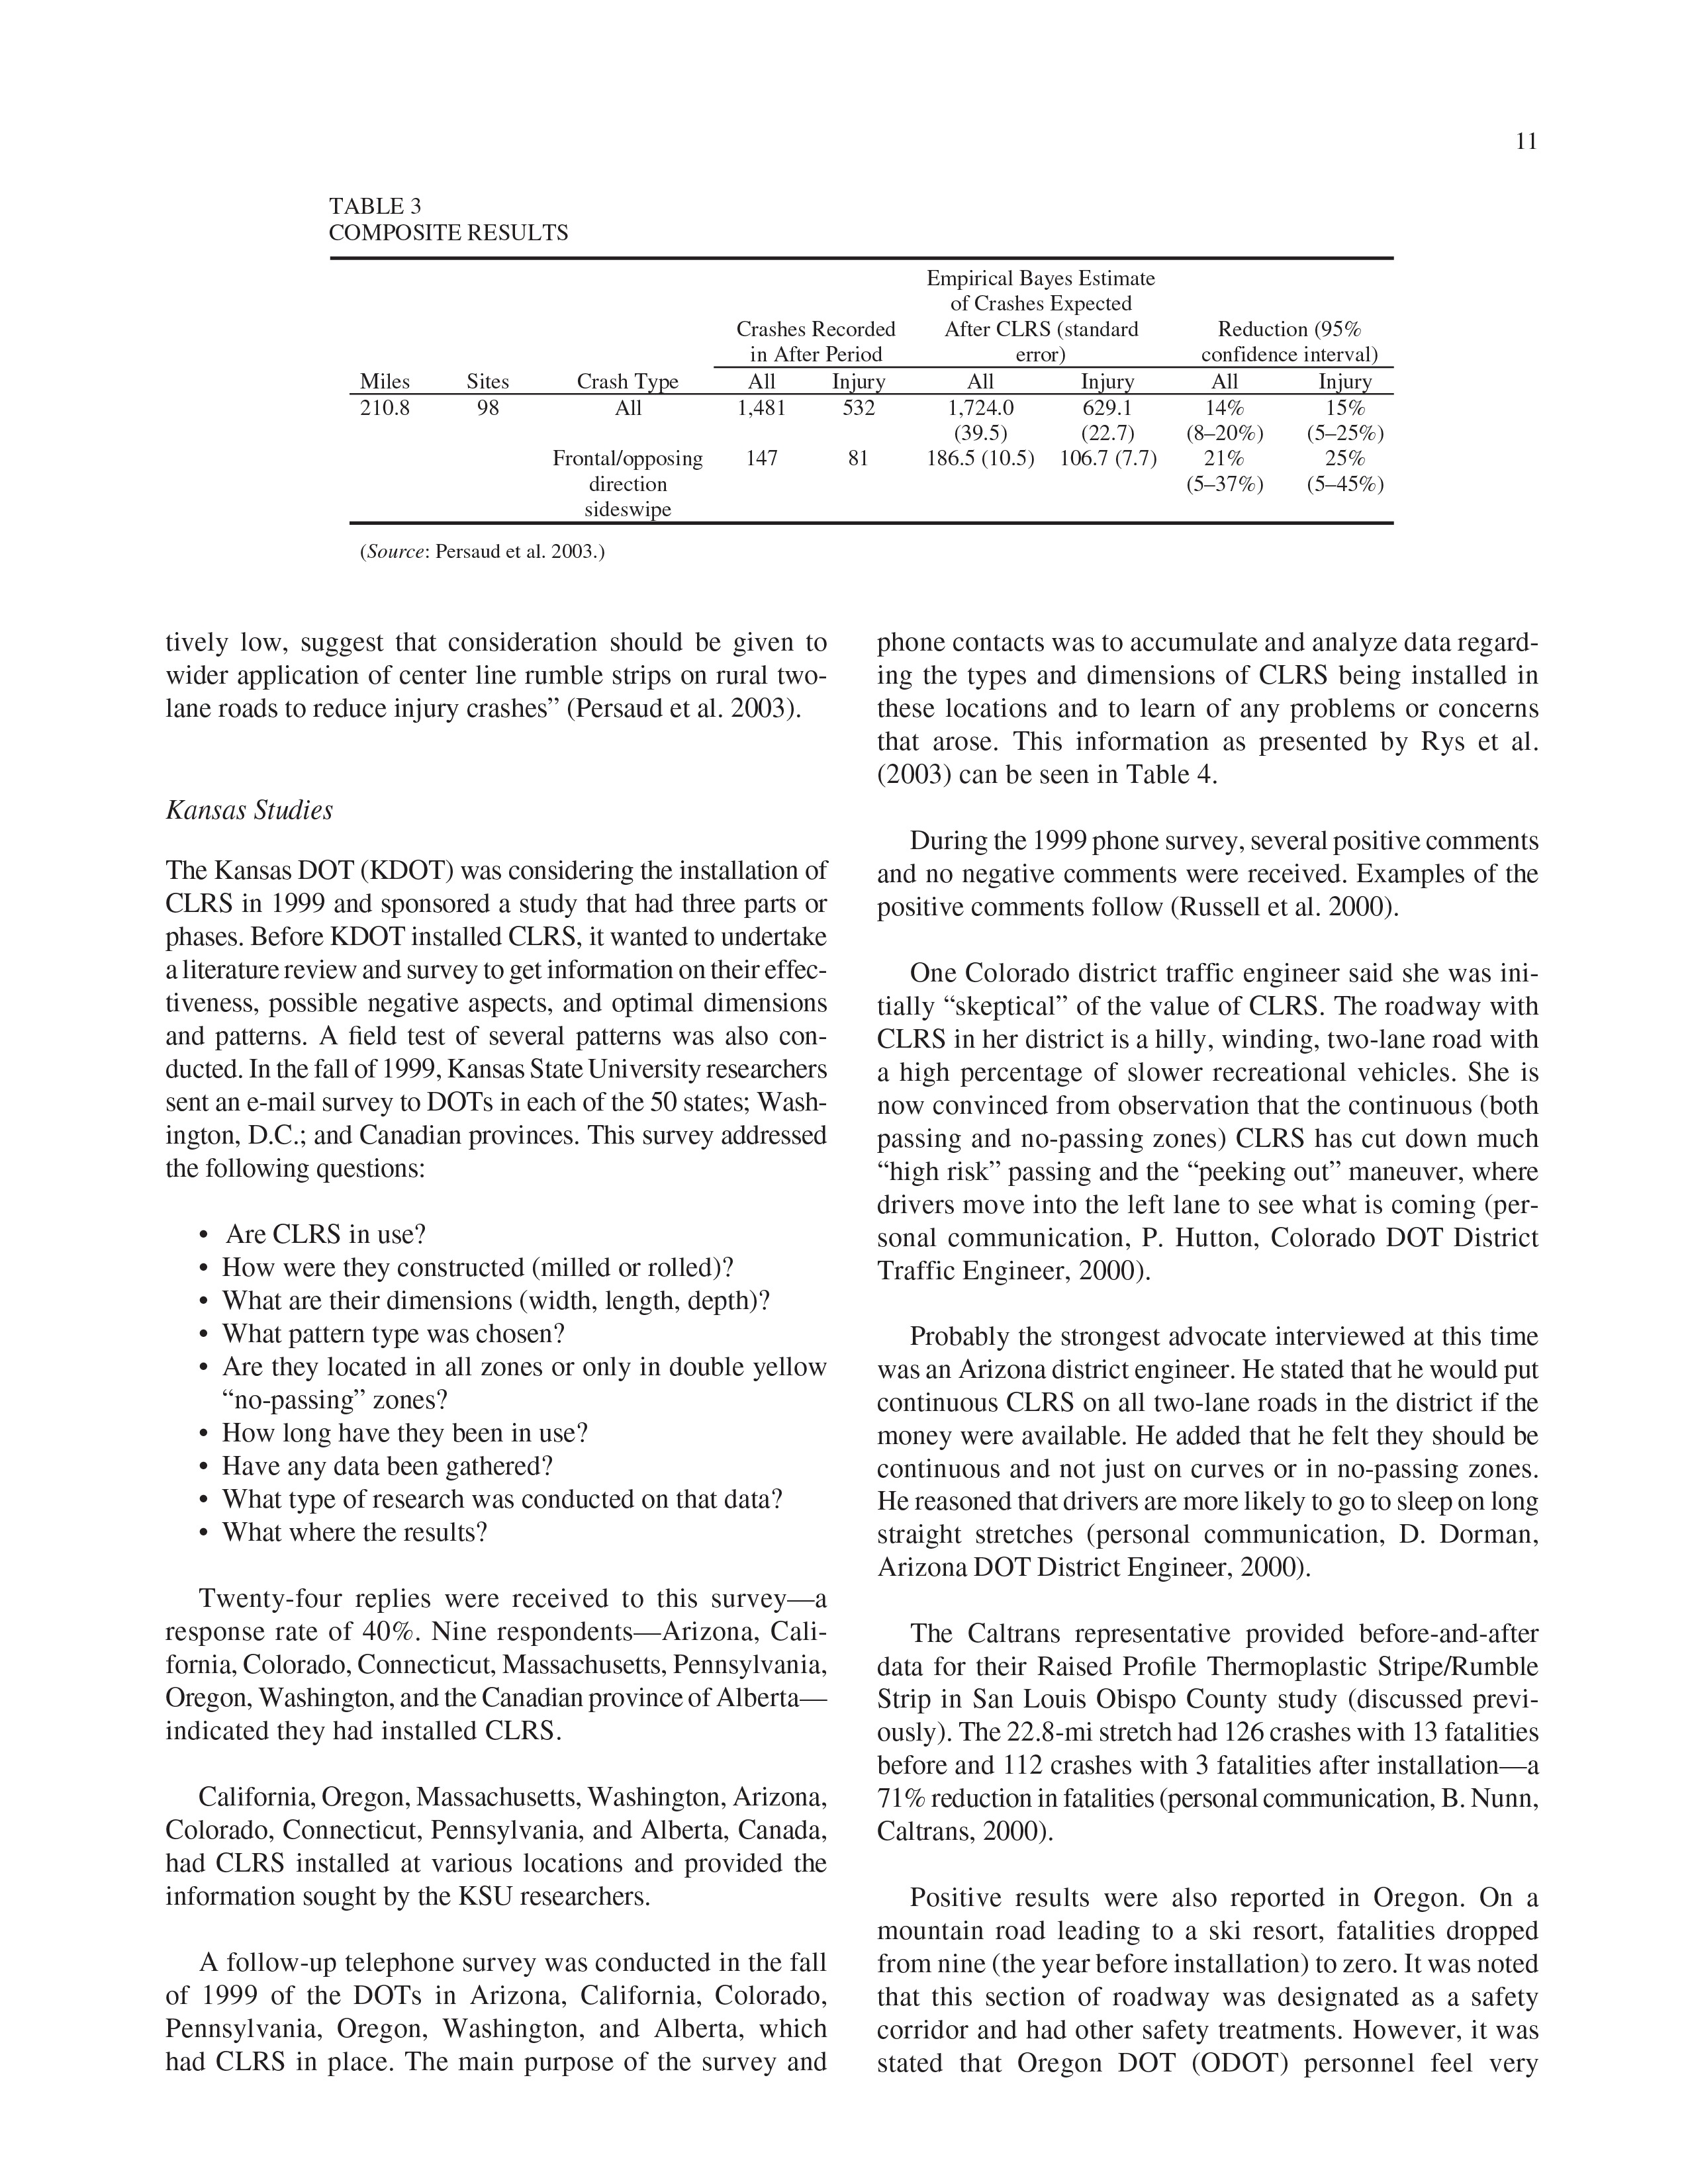figure: (321, 188, 1404, 592)
list: (183, 1213, 830, 1576)
section: (152, 784, 344, 826)
text: (149, 849, 810, 1197), (879, 968, 1546, 1301), (876, 1328, 1550, 1599), (872, 1622, 1557, 1867), (879, 1881, 1553, 2088), (865, 622, 1560, 789), (161, 1588, 839, 1751), (149, 1775, 823, 1934), (149, 1782, 837, 1923), (145, 1954, 846, 2088), (876, 815, 1566, 938), (156, 631, 830, 750)
